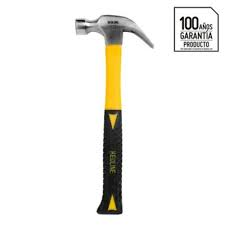martillu: (71, 9, 159, 215)
